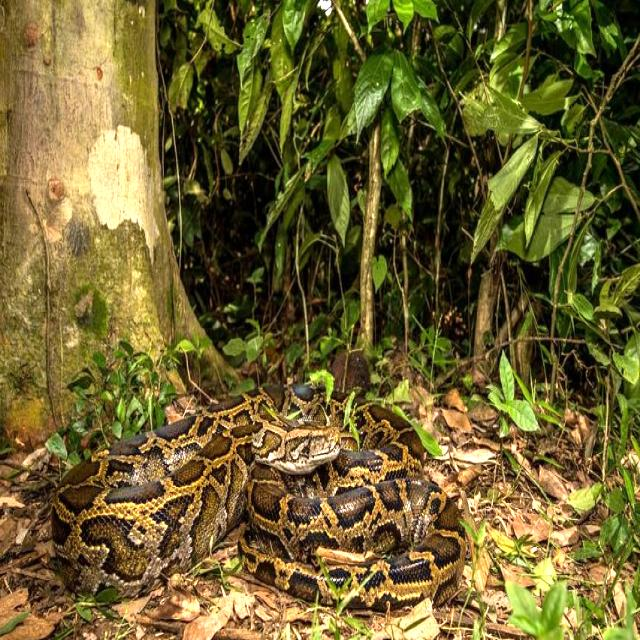Python bivittatus: (52, 386, 465, 609)
snake: (52, 386, 465, 609)
